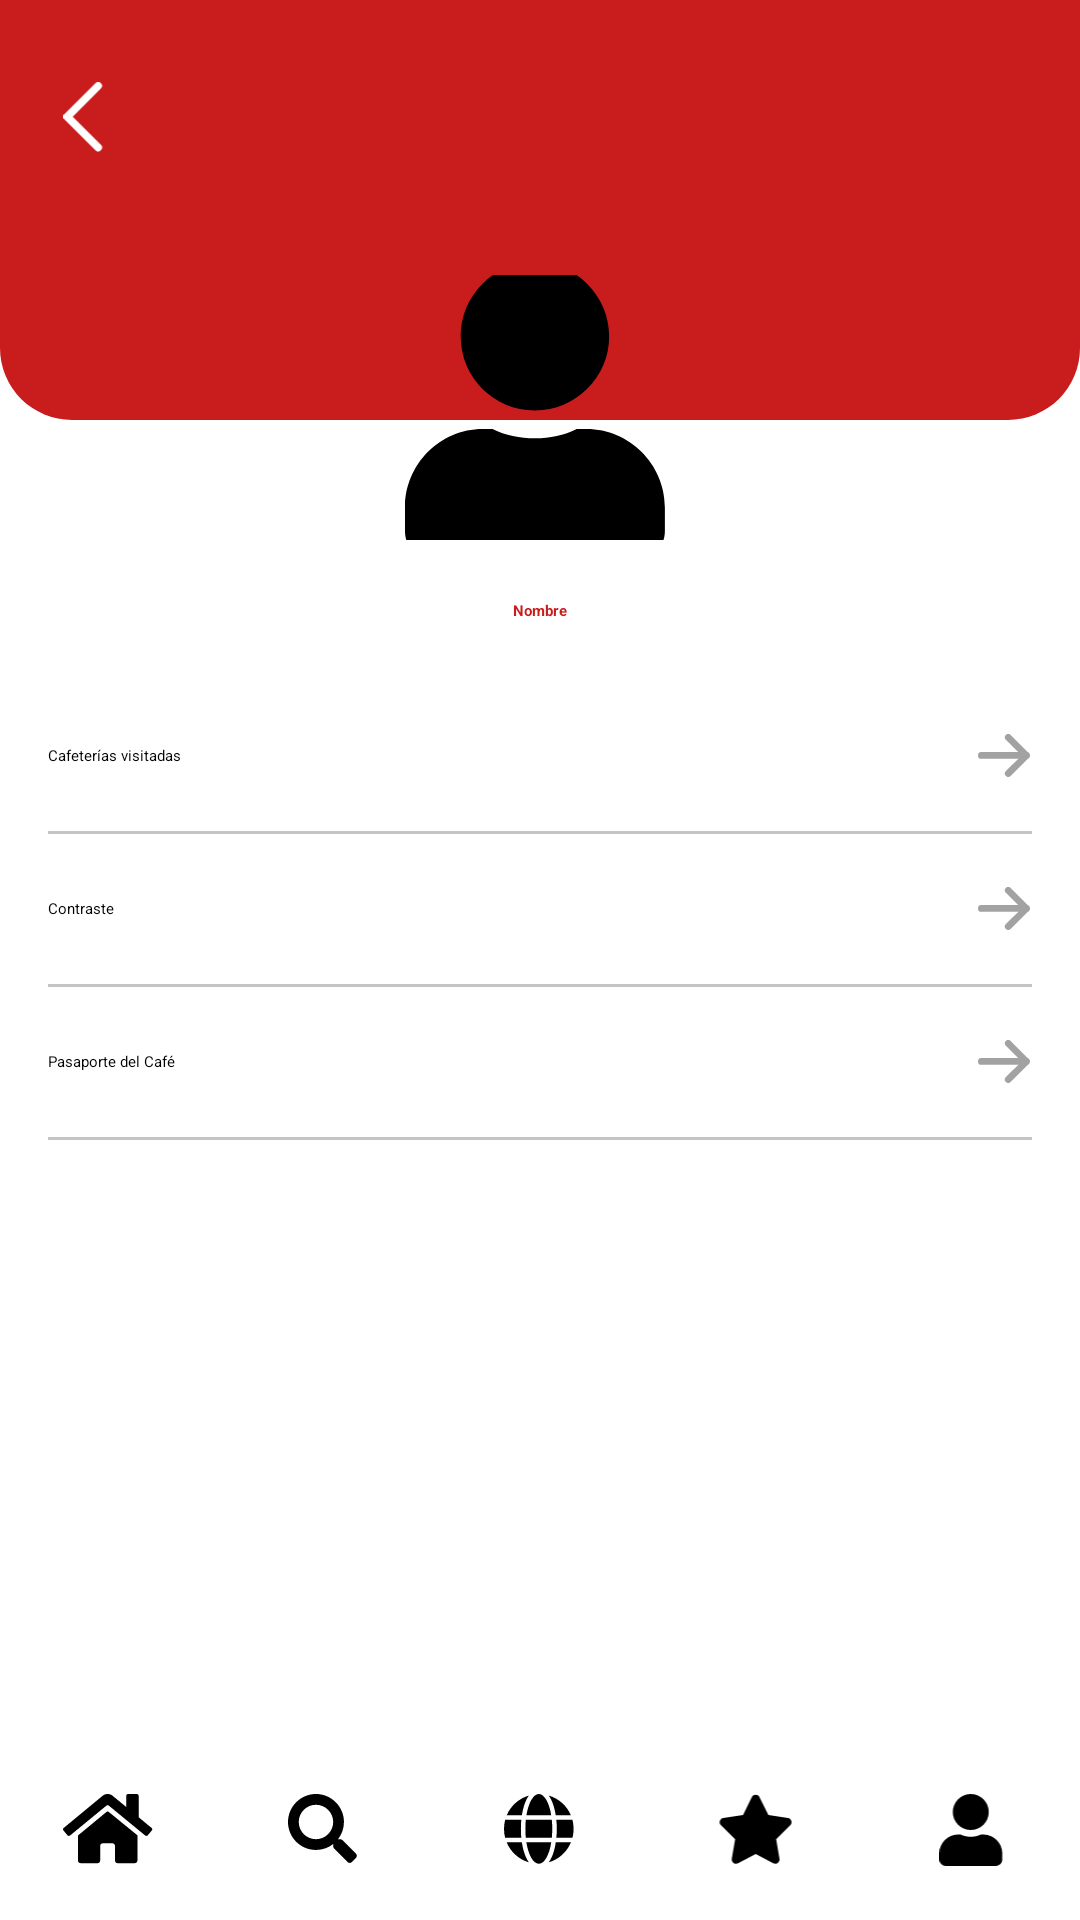

Where to tap for icons on this 1080x1920 app screen, as (x,y):
arrow left: (83,117)
arrow right: (1004,755), (1004,908), (1004,1061)
globe: (539,1829)
home: (108,1829)
search: (322,1828)
star: (755,1829)
user: (540,407), (971,1830)
